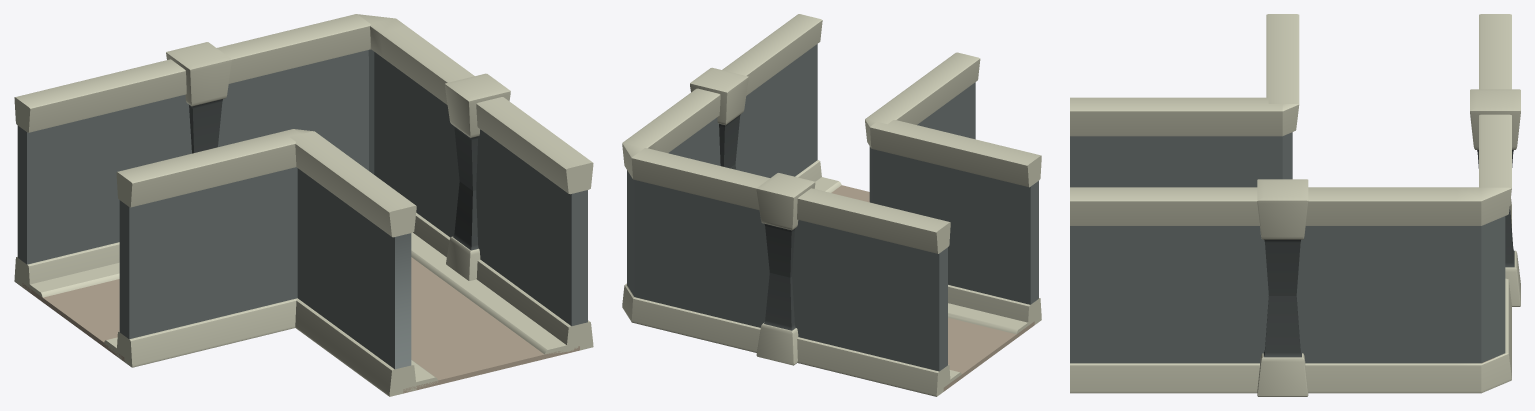
File: HallCornerx2.fbx
3 renders of one model, left to right at view 1: azimuth 30°, elevation 25°; view 2: azimuth 150°, elevation 25°; view 3: azimuth 270°, elevation 25°, orthographic. The views are drawn at different scales.
Parts seen in each view (by area): view 1: Pillar.003; view 2: Pillar.003; view 3: Pillar.003.
Part boxes in pixels (left/top/right/bottom): Pillar.003: left=14, top=14, right=593, bottom=396; Pillar.003: left=622, top=14, right=1041, bottom=396; Pillar.003: left=1070, top=14, right=1520, bottom=396.
Size of the model in its own units: 848 by 410 by 848.
